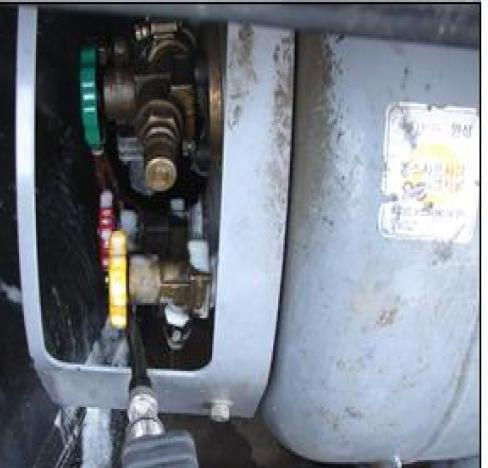cylinder: (1, 0, 488, 468)
